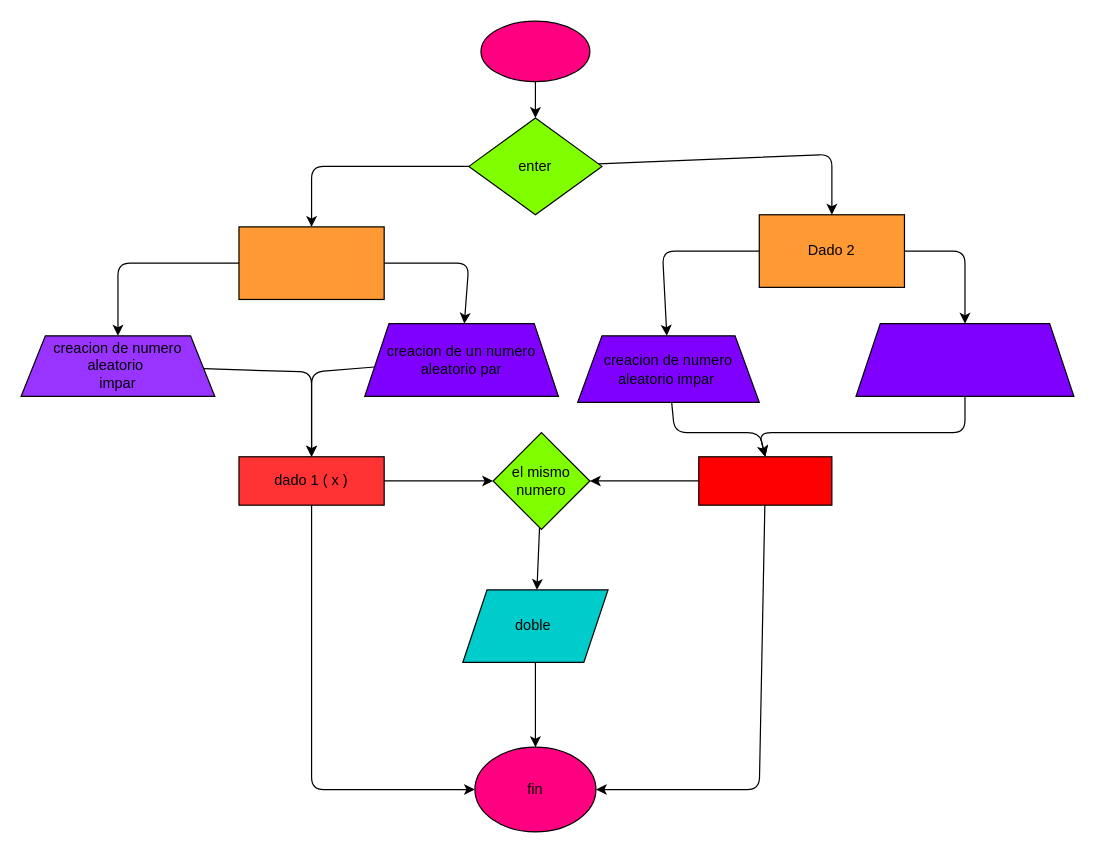
Image size: 1095x853. Some labels were removed from this diagram. Here are the shapes that lost their labels. From the top down, the box of each, then its label:
(480, 20, 590, 82): inicio
(238, 226, 384, 299): Dado 1
(855, 322, 1074, 396): creacion de numero aleatorio par
(698, 456, 832, 505): dado 2 ( x )
